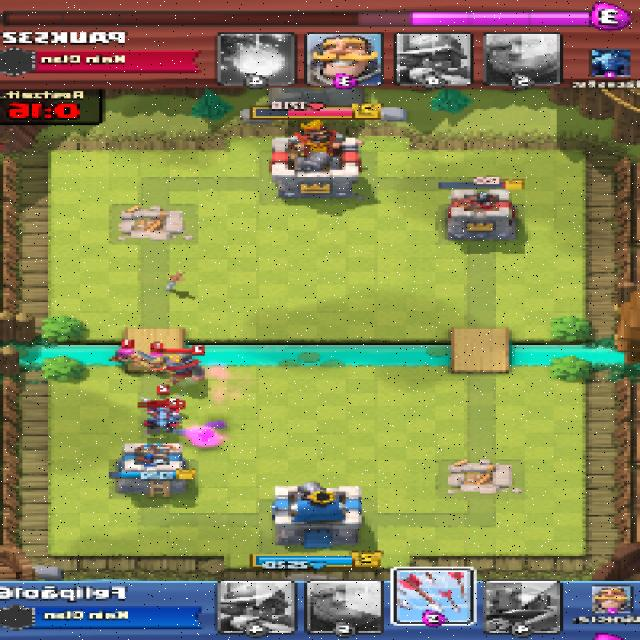Enemy-Archer: (110, 345, 138, 366), (145, 350, 170, 366)
Enemy-Knight: (158, 352, 207, 381)
Enemy-Minion: (145, 411, 178, 428)
